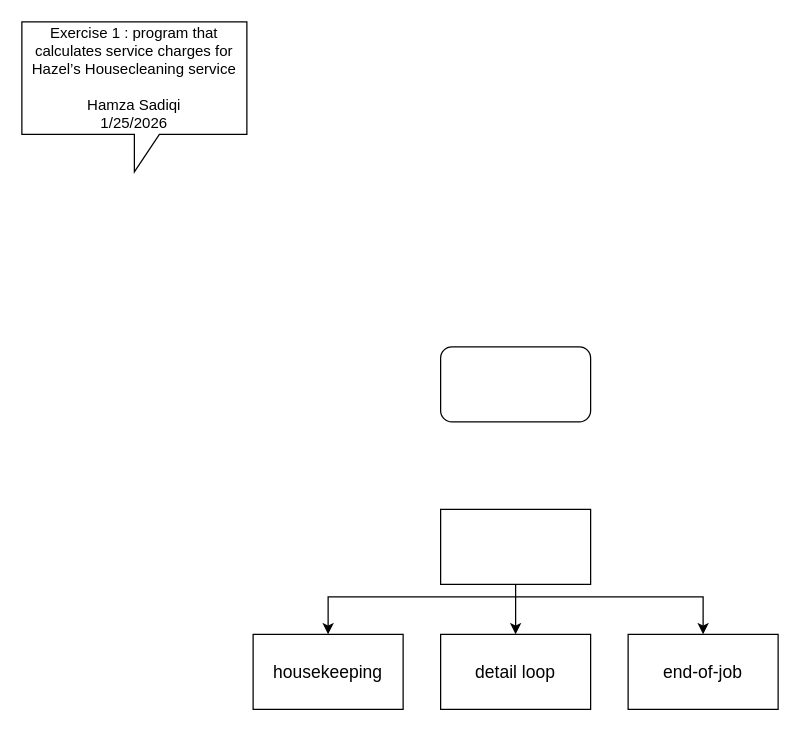
Image size: 800x731. Some labels were removed from this diagram. Here are the shapes that lost their labels. From the top down, the centre of each, then its label:
At point 515,384: "hierarchy chart".
At point 515,546: "main program".
